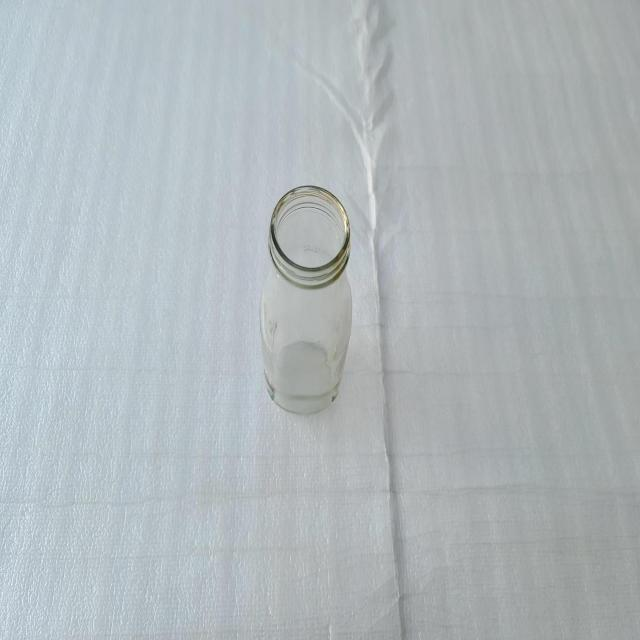glass: (260, 185, 352, 414)
